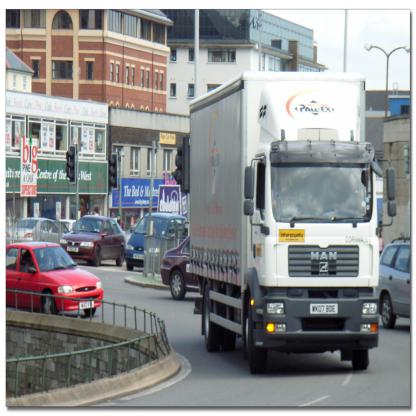Car: (5, 238, 107, 324), (124, 211, 188, 271), (376, 236, 416, 326), (60, 214, 128, 266), (6, 213, 68, 245)
Truck: (174, 74, 390, 367)
